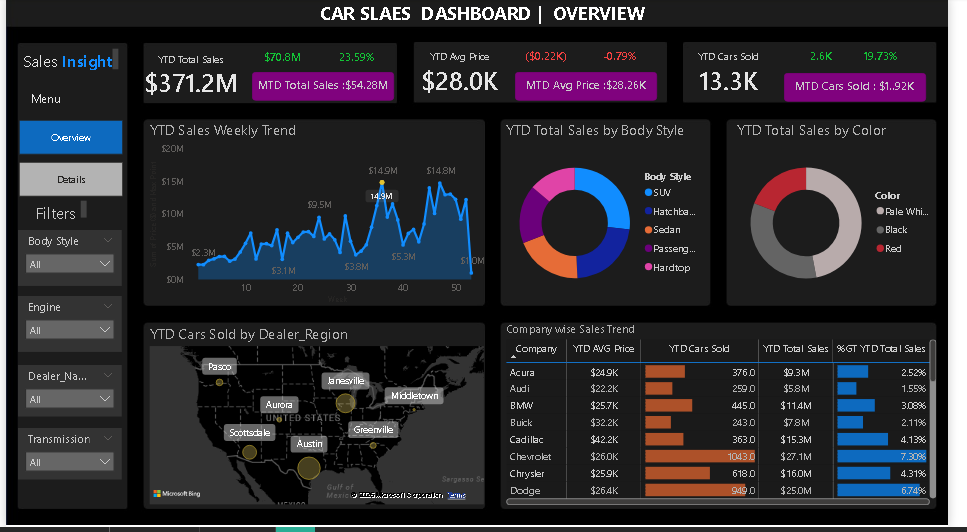

Layout of this report page (visuals, bound fields, positions):
{"tool":"powerbi","page":{"name":"Overview","canvas":[1280,720],"ordinal":0},"visuals":[{"type":"card","title":"YTD Total Sales","fields":{"Values":["car_data.YTD Total Sales"]},"box":[168.3,65.2,165.3,75.8],"z":0},{"type":"card","title":"Sales differnce","fields":{"Values":["car_data.Sales Differnce"]},"box":[326.1,65.2,100.1,37.9],"z":1000},{"type":"card","title":"Sales differnce","fields":{"Values":["car_data.YoY Sales Growth"]},"box":[426.2,65.2,100.1,37.9],"z":2000},{"type":"card","fields":{"Values":["car_data.MTD KPI"]},"box":[333.6,101.6,192.6,39.4],"z":3000},{"type":"card","title":"YTD Avg Price ","fields":{"Values":["car_data.YTD AVG Price"]},"box":[538.4,65.2,165.3,75.8],"z":4000},{"type":"card","title":"Sales differnce","fields":{"Values":["car_data.Avg Price Diff"]},"box":[684,63.7,100.1,37.9],"z":5000},{"type":"card","title":"Sales differnce","fields":{"Values":["car_data.Avg Price Diff"]},"box":[684,63.7,100.1,37.9],"z":6000},{"type":"card","title":"Sales differnce","fields":{"Values":["car_data.YOY Avg Price"]},"box":[784.1,63.7,100.1,37.9],"z":7000},{"type":"card","fields":{"Values":["car_data.MTD Avg Price KPI"]},"box":[691.6,101.6,192.6,39.4],"z":8000},{"type":"card","title":"YTD Cars Sold","fields":{"Values":["car_data.YTD Cars Sold"]},"box":[903.9,65.2,165.3,75.8],"z":9000},{"type":"card","title":"Sales differnce","fields":{"Values":["car_data.Cars Sold Diff"]},"box":[1057.1,63.7,100.1,37.9],"z":10000},{"type":"card","title":"Sales differnce","fields":{"Values":["car_data.YoY Cars Sold Diff"]},"box":[1139,63.7,100.1,37.9],"z":11000},{"type":"card","fields":{"Values":["car_data.MTD Cars Sold KPI"]},"box":[1057.1,103.1,192.6,39.4],"z":12000},{"type":"areaChart","title":"YTD Sales Weekly Trend","fields":{"Y":["Sum(car_data.Price ($))","car_data.Max Point"],"Category":["calendar Table.Week"]},"box":[189.6,166.8,464.1,254.8],"z":13000},{"type":"donutChart","fields":{"Category":["car_data.Body Style"],"Y":["car_data.YTD Total Sales"]},"box":[673.4,166.8,280.6,254.8],"z":14000},{"type":"donutChart","fields":{"Y":["car_data.YTD Total Sales"],"Category":["car_data.Color"]},"box":[987.3,166.8,280.6,254.8],"z":15000},{"type":"map","fields":{"Category":["car_data.Dealer_Region"],"Size":["car_data.YTD Cars Sold"]},"box":[189.6,444.4,464.1,250.2],"z":16000},{"type":"tableEx","title":"Company wise Sales Trend","fields":{"Values":["car_data.Company","car_data.YTD AVG Price","car_data.YTD Cars Sold","car_data.YTD Total Sales1","car_data.YTD Total Sales"]},"box":[673.4,439.8,594.5,254.8],"z":17000},{"type":"textbox","box":[421.6,0,479.2,48.5],"z":18000},{"type":"slicer","fields":{"Values":["car_data.Body Style"]},"box":[16.7,317,141,75.8],"z":19000},{"type":"slicer","fields":{"Values":["car_data.Engine"]},"box":[16.7,406.4,141,75.8],"z":20000},{"type":"slicer","fields":{"Values":["car_data.Dealer_Name"]},"box":[16.7,500.5,141,69.8],"z":21000},{"type":"slicer","fields":{"Values":["car_data.Transmission"]},"box":[16.7,585.4,141,69.8],"z":22000},{"type":"textbox","box":[28.6,271.4,85.7,35.7],"z":23000},{"type":"textbox","box":[17.1,65.7,140,38.6],"z":23001},{"type":"textbox","box":[28.6,122.9,60,35.7],"z":23002},{"type":"pageNavigator","box":[17.1,167.1,141.4,104.3],"z":23003}]}

Visuals, with their boxes on the page's 1280x720 design canvas (x1, y1, x2, y2). These are canvas units, not pixel positions in the 967x532 screenshot, which may show the page scaled, cropped or inside an application window:
"YTD Total Sales" card: 168:65:334:141
"Sales differnce" card: 326:65:426:103
"Sales differnce" card: 426:65:526:103
card - car_data.MTD KPI: 334:102:526:141
"YTD Avg Price " card: 538:65:704:141
"Sales differnce" card: 684:64:784:102
"Sales differnce" card: 684:64:784:102
"Sales differnce" card: 784:64:884:102
card - car_data.MTD Avg Price KPI: 692:102:884:141
"YTD Cars Sold" card: 904:65:1069:141
"Sales differnce" card: 1057:64:1157:102
"Sales differnce" card: 1139:64:1239:102
card - car_data.MTD Cars Sold KPI: 1057:103:1250:142
"YTD Sales Weekly Trend" areaChart: 190:167:654:422
donutChart - car_data.Body Style x car_data.YTD Total Sales: 673:167:954:422
donutChart - car_data.YTD Total Sales x car_data.Color: 987:167:1268:422
map - car_data.Dealer_Region x car_data.YTD Cars Sold: 190:444:654:695
"Company wise Sales Trend" tableEx: 673:440:1268:695
textbox: 422:0:901:48
slicer - car_data.Body Style: 17:317:158:393
slicer - car_data.Engine: 17:406:158:482
slicer - car_data.Dealer_Name: 17:500:158:570
slicer - car_data.Transmission: 17:585:158:655
textbox: 29:271:114:307
textbox: 17:66:157:104
textbox: 29:123:89:159
pageNavigator: 17:167:158:271
